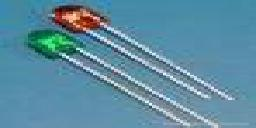LED: (22, 29, 96, 65), (52, 4, 119, 37)
